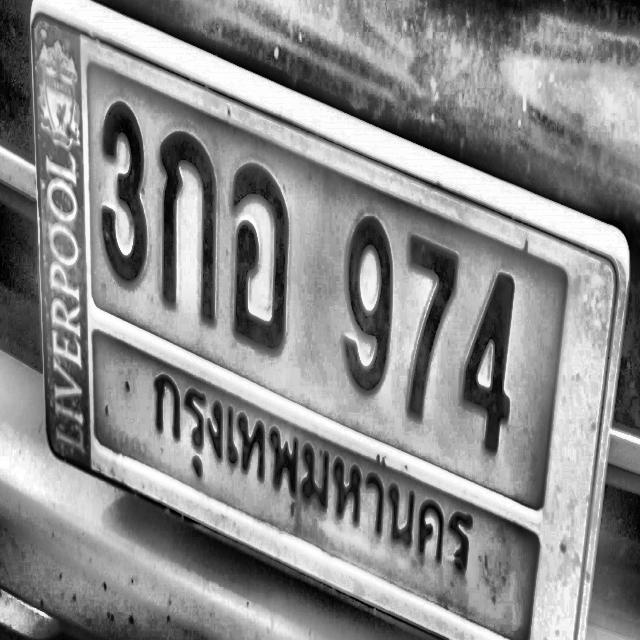license-plate: (14, 0, 634, 640)
